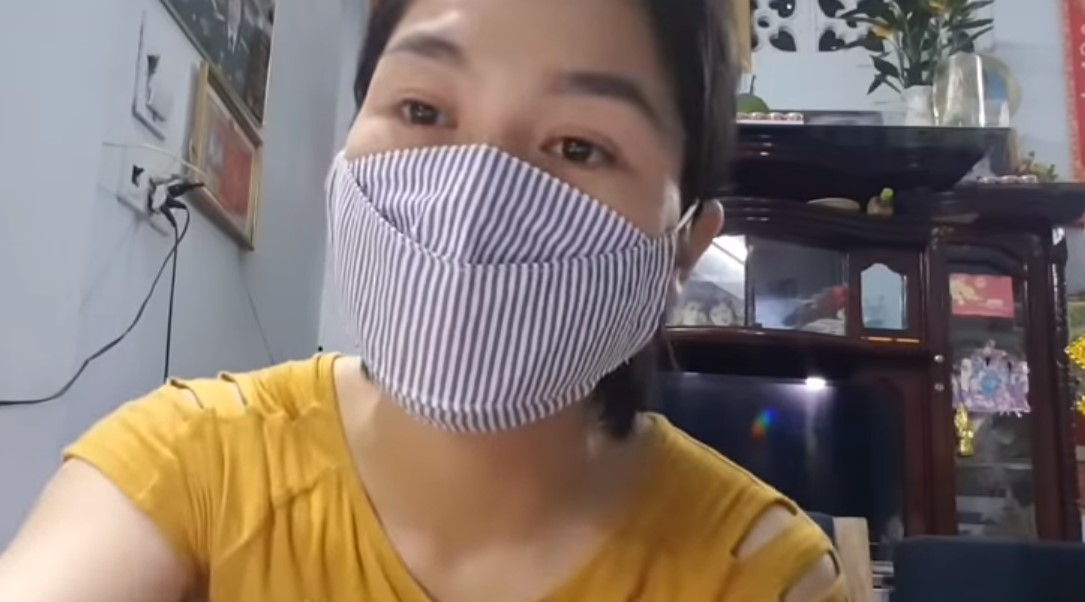face_with_mask: (322, 2, 731, 443)
